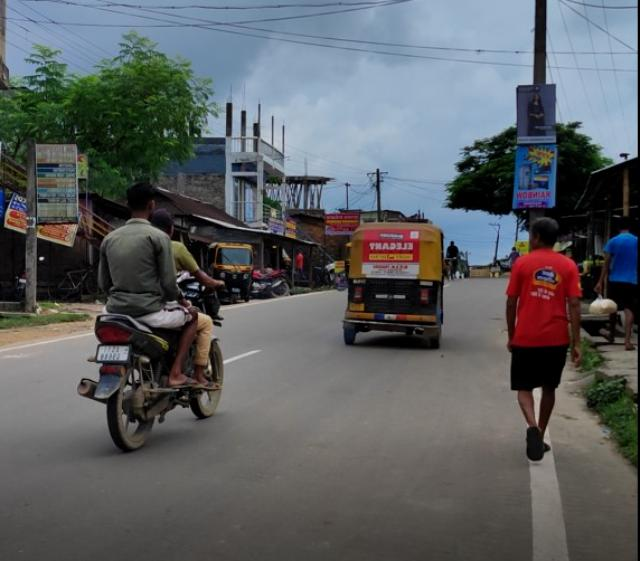licensePlate: (89, 343, 130, 364)
motorcycle: (79, 177, 230, 455)
withoutHelmet: (123, 184, 154, 216), (149, 211, 183, 232)
